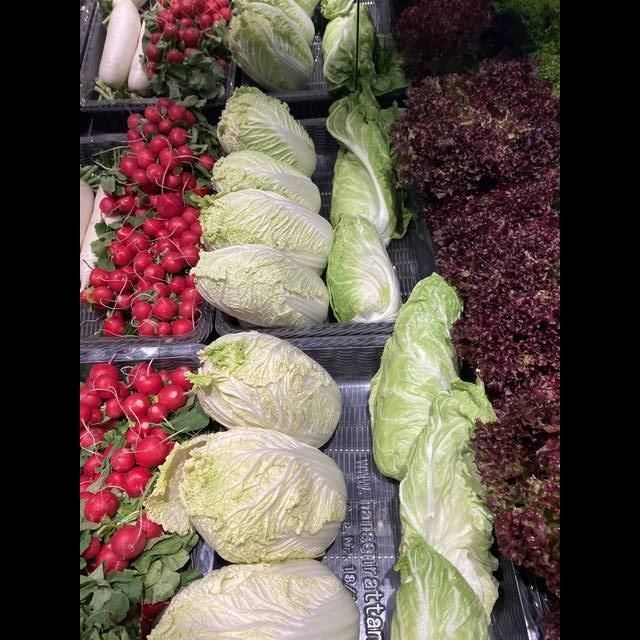cabbage: (150, 429, 346, 562), (142, 562, 361, 640), (195, 332, 342, 446), (195, 245, 328, 328), (202, 191, 332, 274), (219, 90, 317, 177), (227, 5, 312, 87), (212, 155, 321, 214)
